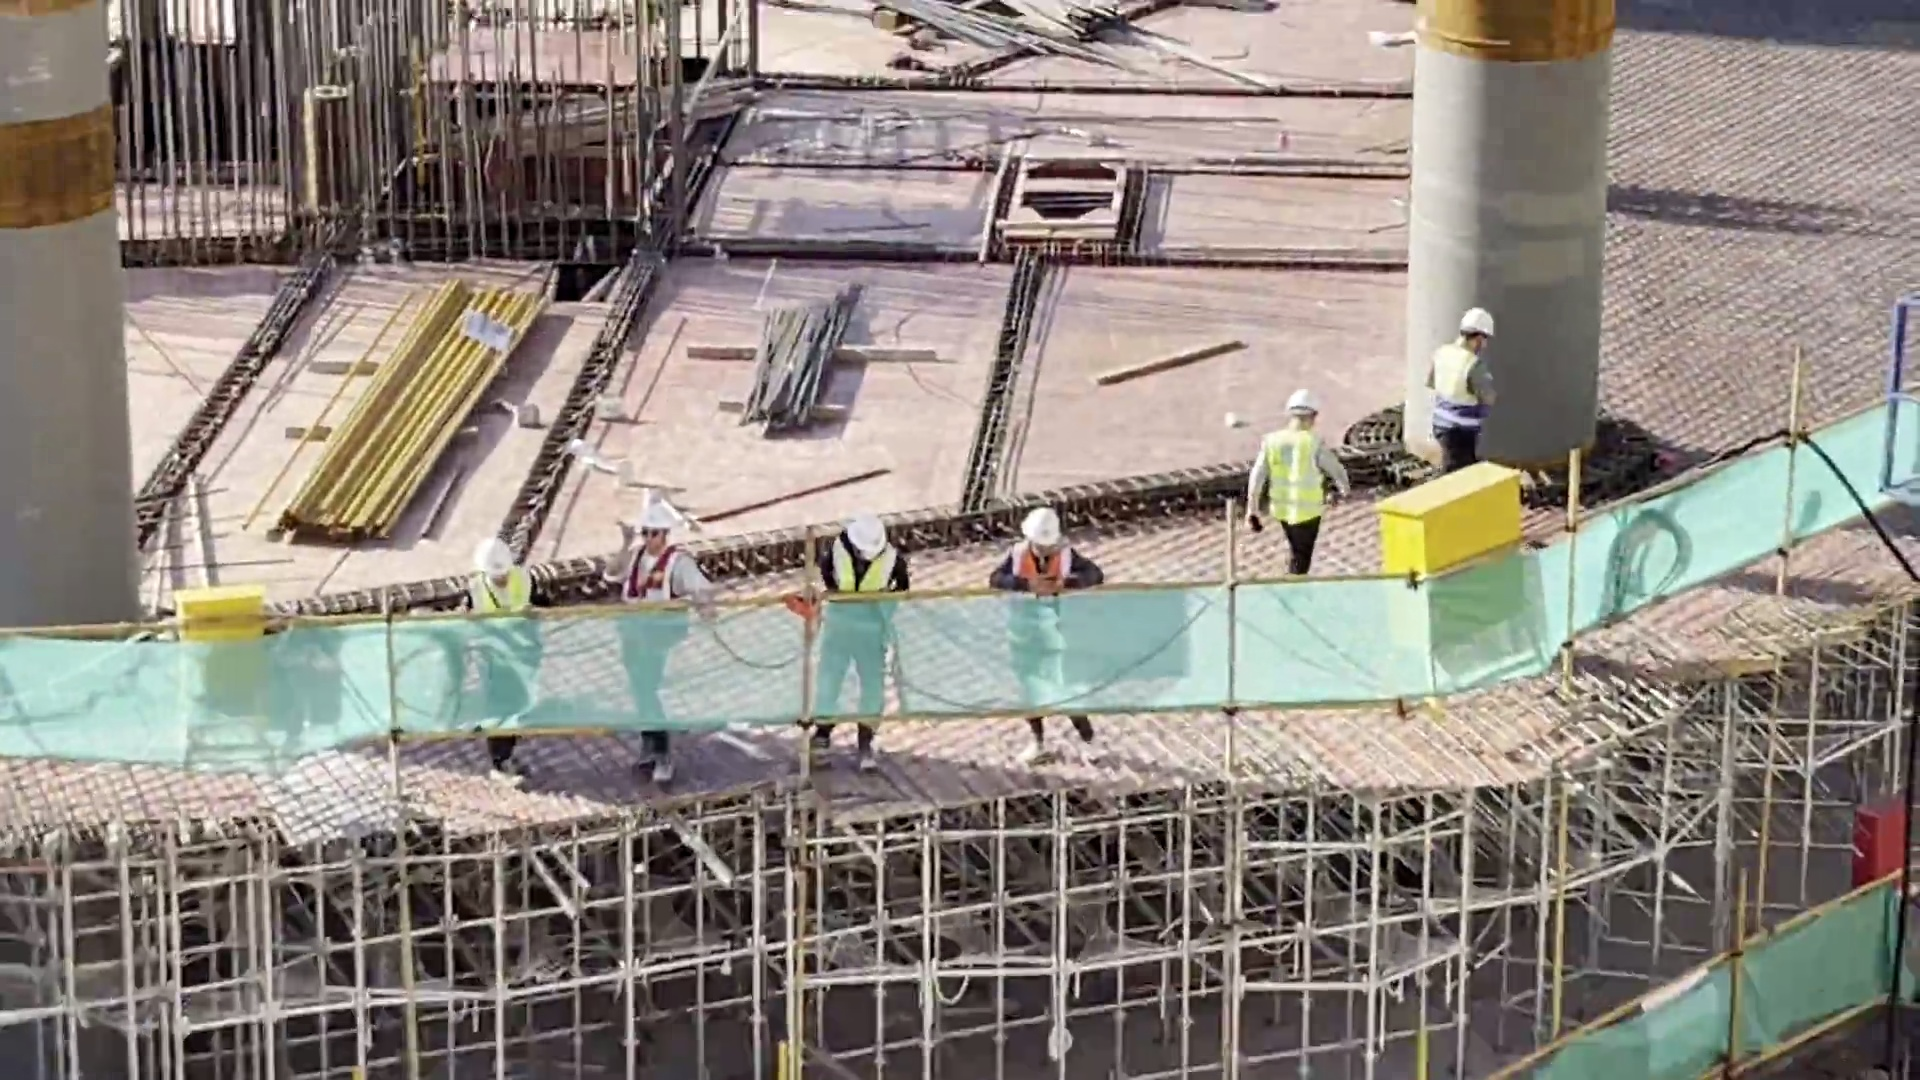ebox: (1380, 457, 1526, 554), (167, 585, 277, 619)
helmet: (1016, 505, 1060, 548), (473, 539, 520, 578), (841, 517, 889, 553), (1278, 387, 1324, 419), (1459, 307, 1498, 338), (639, 507, 678, 533)
person: (1245, 385, 1357, 573), (1425, 303, 1503, 458), (604, 507, 721, 604), (989, 504, 1104, 594), (441, 533, 549, 606), (813, 515, 916, 587)
rebar: (741, 280, 869, 439), (887, 1, 1064, 61), (1057, 1, 1138, 43)
vest: (1257, 429, 1334, 526), (1428, 338, 1482, 435), (620, 544, 681, 606), (831, 544, 898, 591), (465, 570, 532, 615), (1011, 543, 1073, 583)
